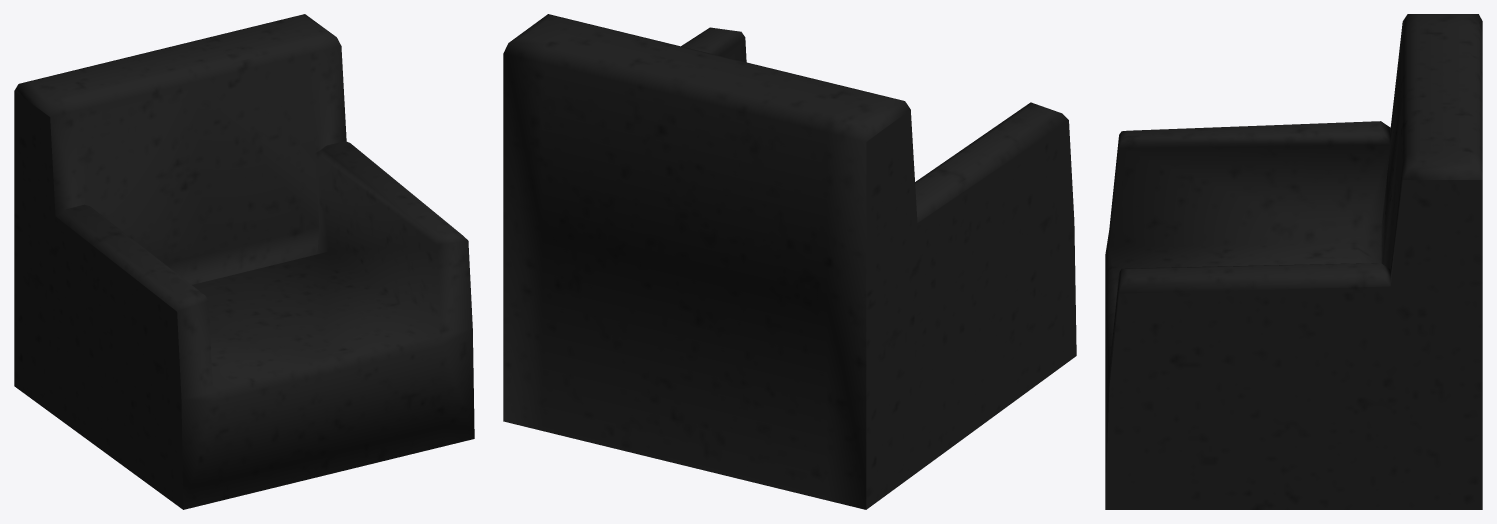
The model's file is sofa.glb.
3 renders of one model, left to right at view 1: azimuth 30°, elevation 25°; view 2: azimuth 150°, elevation 25°; view 3: azimuth 270°, elevation 25°, orthographic. The views are drawn at different scales.
Visible parts, largest first — view 1: template_bake_only; view 2: template_bake_only; view 3: template_bake_only.
Boxes of the visible parts, x1,y1,x2,y2 form: template_bake_only: (14,14,474,509); template_bake_only: (503,14,1076,509); template_bake_only: (1105,14,1482,509).
Size of the model in its own units: 0.9953 by 1 by 1.
Materials: 1 (1 with a texture image).
